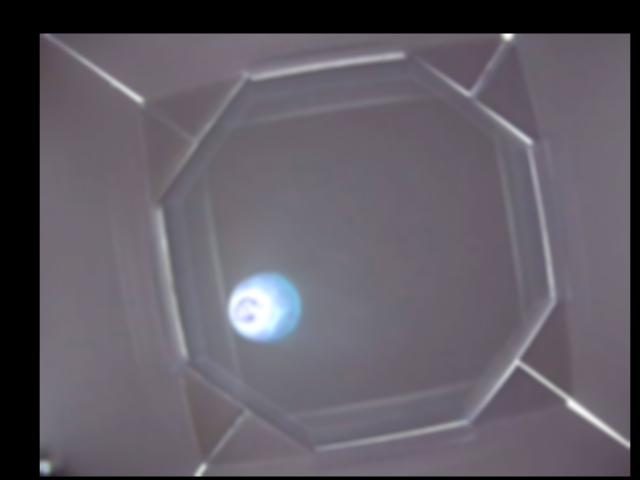Carrot: (227, 273, 303, 344)
